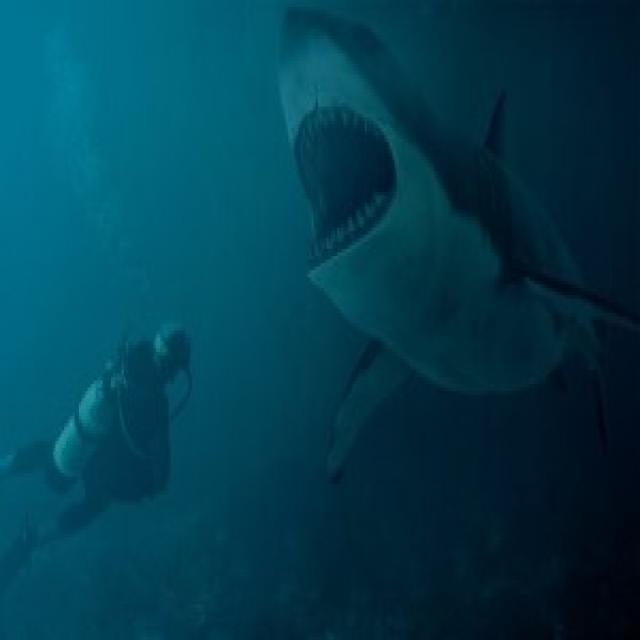Shark: (258, 0, 638, 502)
